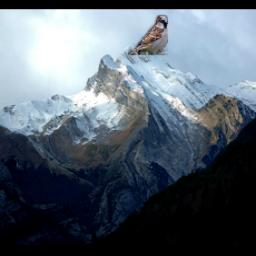Sparrow: (128, 15, 168, 55)
